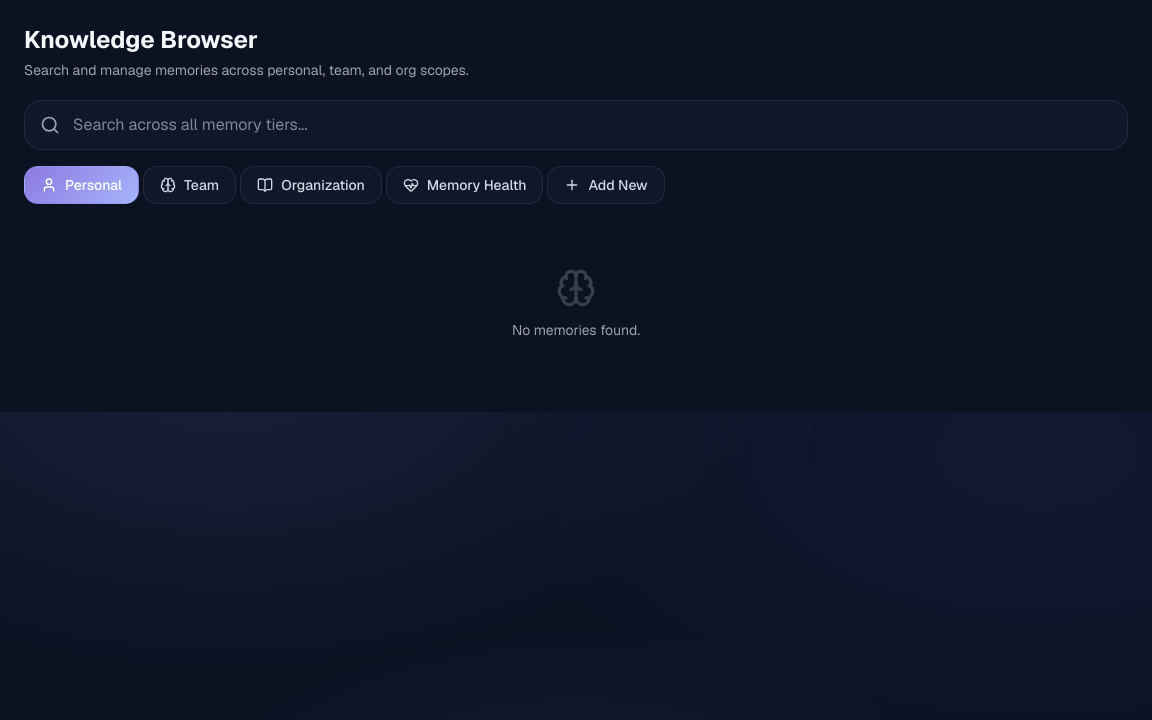
Scenario: KnowledgeBrowser Memory Health › loads and renders memory health recommendations
Click the button "Memory Health": [465, 185] box left=386, top=166, right=544, bottom=204
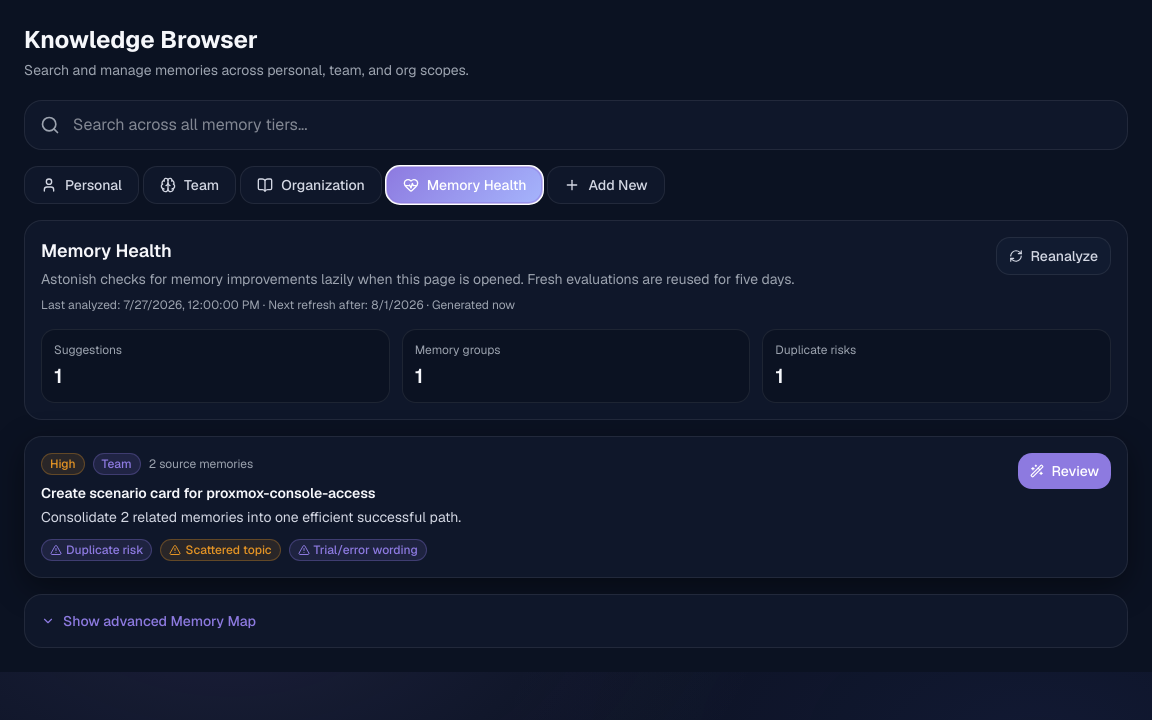
Expected: the heading "Memory Health" is shown, left=41, top=239, right=172, bottom=262
Expected: the text "Suggestions" is shown, left=54, top=342, right=122, bottom=358
Expected: the heading "Create scenario card for proxmox-console-access" is shown, left=41, top=484, right=376, bottom=502
